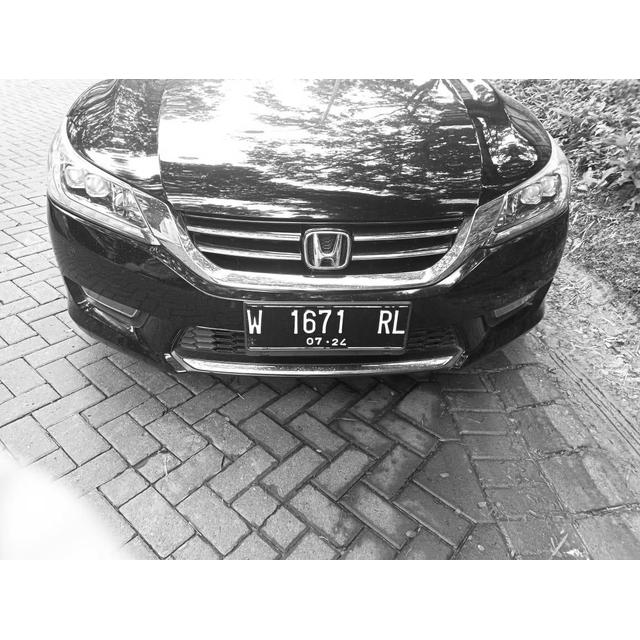license: (246, 308, 406, 347)
